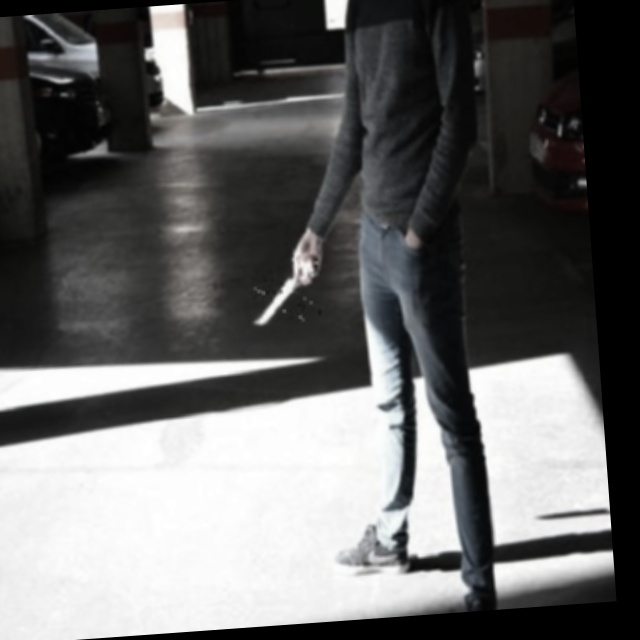Sharp-Object: (248, 255, 320, 325)
